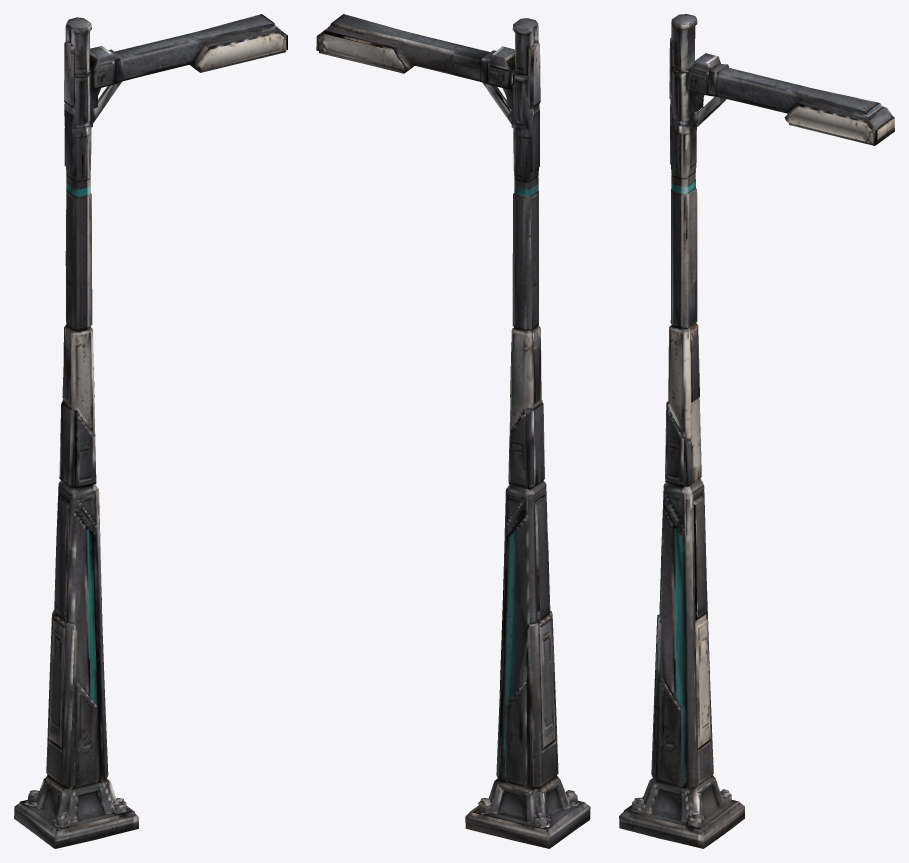
Rendered from kairox-streetlight.glb.
3 renders of one model, left to right at view 1: azimuth 30°, elevation 25°; view 2: azimuth 150°, elevation 25°; view 3: azimuth 330°, elevation 25°, orthographic.
Parts seen in each view (by area): view 1: kairox-streetlight; view 2: kairox-streetlight; view 3: kairox-streetlight.
Boxes of the visible parts, bbox=[...] form: kairox-streetlight: bbox=[14, 14, 287, 848]; kairox-streetlight: bbox=[316, 14, 590, 848]; kairox-streetlight: bbox=[619, 14, 894, 848].
Size of the model in its own units: 2.4 by 7.5 by 0.7.
1 material, 1 textured.
